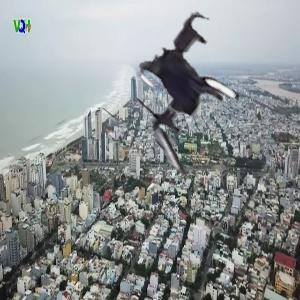drone: (112, 12, 258, 158)
